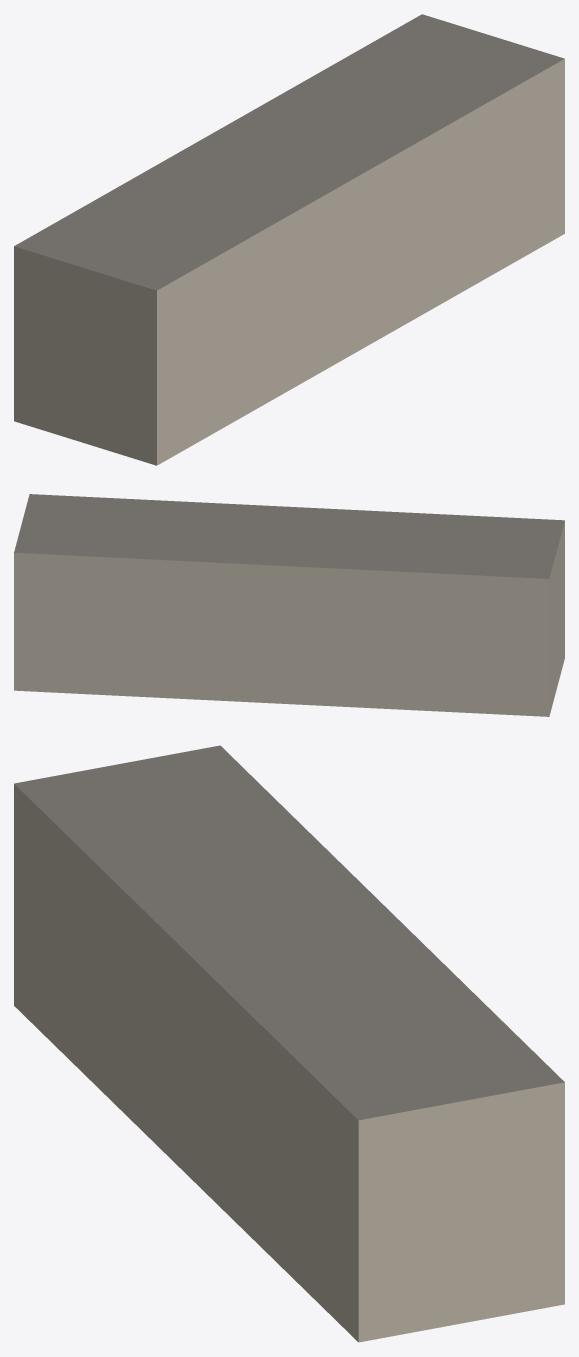
The picture shows the model from 3 angles, top to bottom: view 1: azimuth 30°, elevation 25°; view 2: azimuth 150°, elevation 25°; view 3: azimuth 270°, elevation 25°; orthographic projection. The views are drawn at different scales.
Parts seen in each view (by area): view 1: HP-w859088445; view 2: HP-w859088445; view 3: HP-w859088445.
Part boxes in pixels (x1,y1,x2,y2): HP-w859088445: [14, 14, 564, 465]; HP-w859088445: [14, 494, 564, 716]; HP-w859088445: [14, 745, 564, 1342].
Size of the model in its own units: 65.15 by 18 by 40.46.
